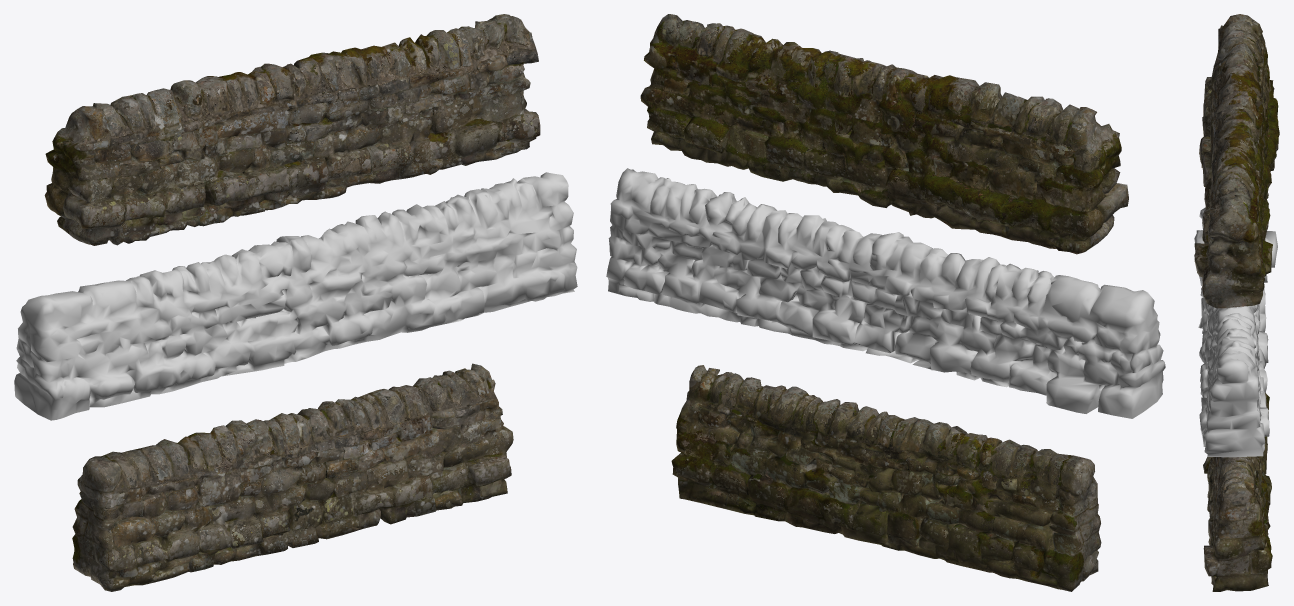
File: Walls.fbx
3 renders of one model, left to right at view 1: azimuth 30°, elevation 25°; view 2: azimuth 150°, elevation 25°; view 3: azimuth 270°, elevation 25°, orthographic. The views are drawn at different scales.
Parts seen in each view (by area): view 1: Aset_assembly_rock_M_ujyjbehqx_LOD3, Aset_other__L_uh1rbecfa_LOD3, Aset_assembly_rock_L_ukhgdfyga_LOD3; view 2: Aset_assembly_rock_M_ujyjbehqx_LOD3, Aset_other__L_uh1rbecfa_LOD3, Aset_assembly_rock_L_ukhgdfyga_LOD3; view 3: Aset_other__L_uh1rbecfa_LOD3, Aset_assembly_rock_M_ujyjbehqx_LOD3, Aset_assembly_rock_L_ukhgdfyga_LOD3.
Boxes of the visible parts, box(x1,y1,x2,y2) form: Aset_assembly_rock_M_ujyjbehqx_LOD3: box(14, 172, 577, 420); Aset_other__L_uh1rbecfa_LOD3: box(44, 14, 540, 245); Aset_assembly_rock_L_ukhgdfyga_LOD3: box(72, 363, 513, 591); Aset_assembly_rock_M_ujyjbehqx_LOD3: box(606, 168, 1165, 418); Aset_other__L_uh1rbecfa_LOD3: box(640, 14, 1128, 254); Aset_assembly_rock_L_ukhgdfyga_LOD3: box(671, 365, 1101, 591); Aset_other__L_uh1rbecfa_LOD3: box(1194, 14, 1279, 308); Aset_assembly_rock_M_ujyjbehqx_LOD3: box(1194, 207, 1277, 457); Aset_assembly_rock_L_ukhgdfyga_LOD3: box(1203, 392, 1272, 591).
Size of the model in its own units: 398 by 340 by 64.06.
